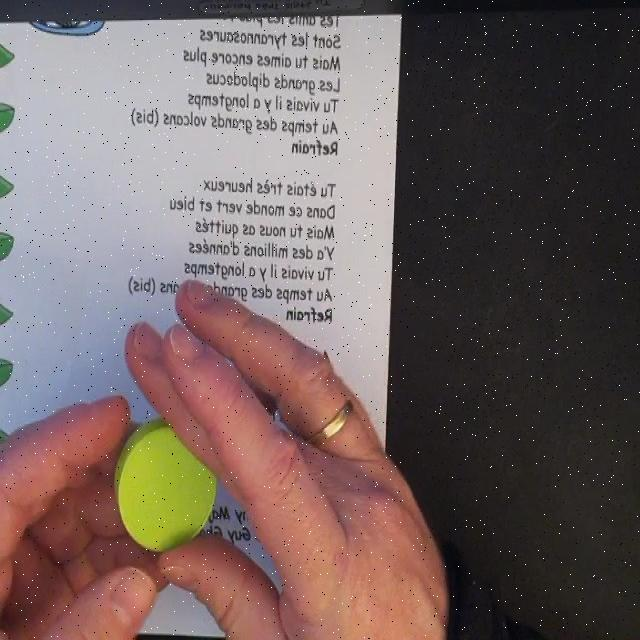round: (115, 416, 218, 554)
